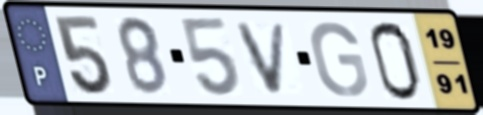0: (367, 19, 425, 103)
5: (177, 16, 244, 100), (50, 12, 114, 97)
8: (116, 14, 169, 97)
G: (307, 19, 371, 100)
V: (233, 20, 291, 97)
